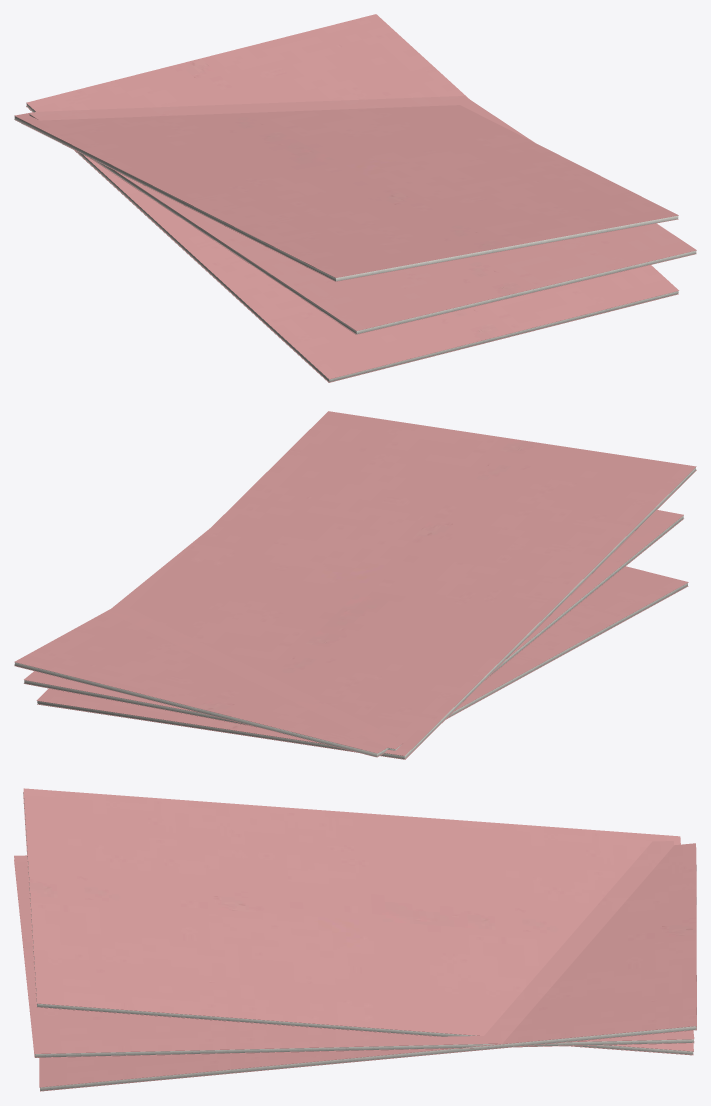
File: ALV-DRY-003_anim.glb
3 renders of one model, top to bottom at view 1: azimuth 30°, elevation 25°; view 2: azimuth 150°, elevation 25°; view 3: azimuth 270°, elevation 25°, orthographic. The views are drawn at different scales.
Visible parts, largest first — view 1: ALV-DRY-003_anim2, ALV-DRY-003_anim0, ALV-DRY-003_anim1; view 2: ALV-DRY-003_anim2, ALV-DRY-003_anim0, ALV-DRY-003_anim1; view 3: ALV-DRY-003_anim2, ALV-DRY-003_anim0, ALV-DRY-003_anim1.
Boxes of the visible parts, <box> form: ALV-DRY-003_anim2: <box>14,105,678,281</box>; ALV-DRY-003_anim0: <box>26,14,678,382</box>; ALV-DRY-003_anim1: <box>29,96,696,334</box>; ALV-DRY-003_anim2: <box>36,411,696,759</box>; ALV-DRY-003_anim0: <box>14,566,688,757</box>; ALV-DRY-003_anim1: <box>24,510,683,750</box>; ALV-DRY-003_anim2: <box>23,788,693,1055</box>; ALV-DRY-003_anim0: <box>39,843,696,1091</box>; ALV-DRY-003_anim1: <box>14,841,694,1057</box>.
Bounding box in the file's own units: 1.32 × 0.3614 × 1.86.
Materials: 2 (2 with a texture image).
